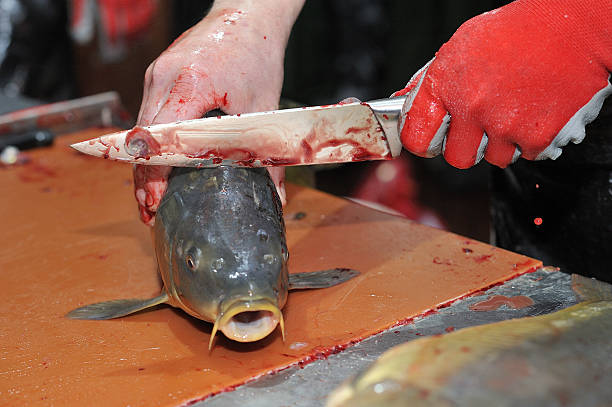blood: (87, 101, 397, 168), (138, 8, 270, 125), (131, 166, 171, 233)
knife: (66, 100, 391, 170)
